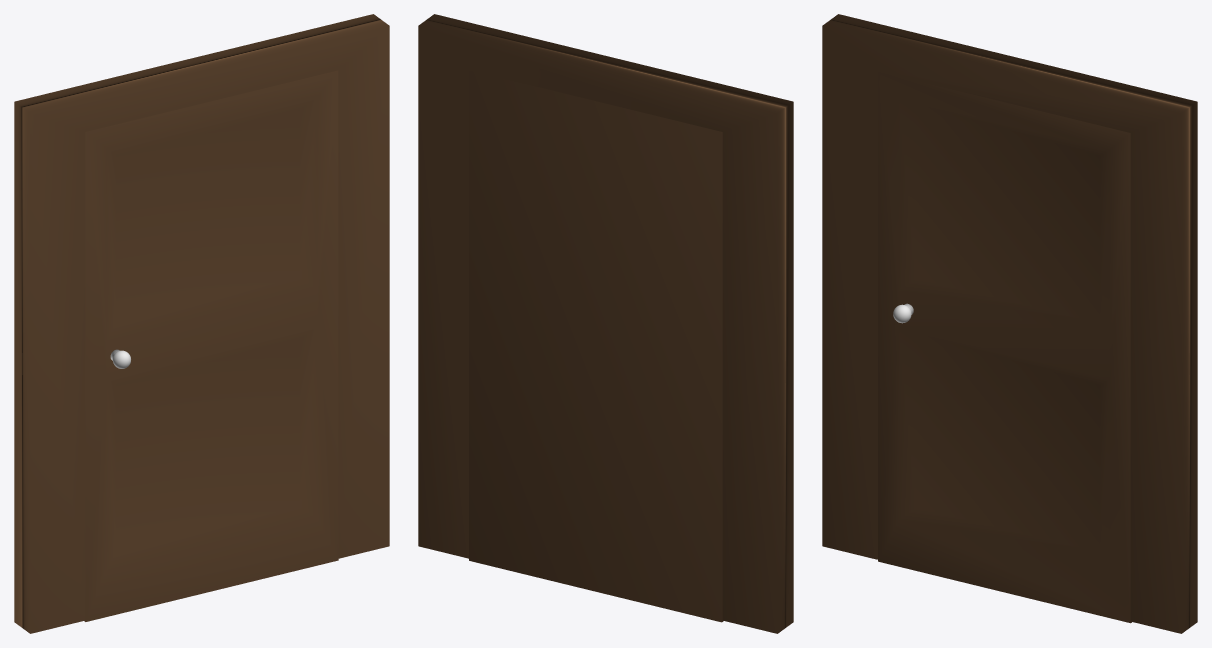
Rendered from doorAssembly.fbx.
The picture shows the model from 3 angles, left to right: view 1: azimuth 30°, elevation 25°; view 2: azimuth 150°, elevation 25°; view 3: azimuth 330°, elevation 25°; orthographic projection.
Parts seen in each view (by area): view 1: door, frame; view 2: door, frame; view 3: door, frame.
Boxes of the visible parts, x1,y1,x2,y2 form: door: (84,70,338,621); frame: (14,14,389,633); door: (469,70,723,622); frame: (418,14,793,633); door: (878,71,1131,623); frame: (822,14,1197,633).
Size of the model in its own units: 7.8 by 10.84 by 1.
